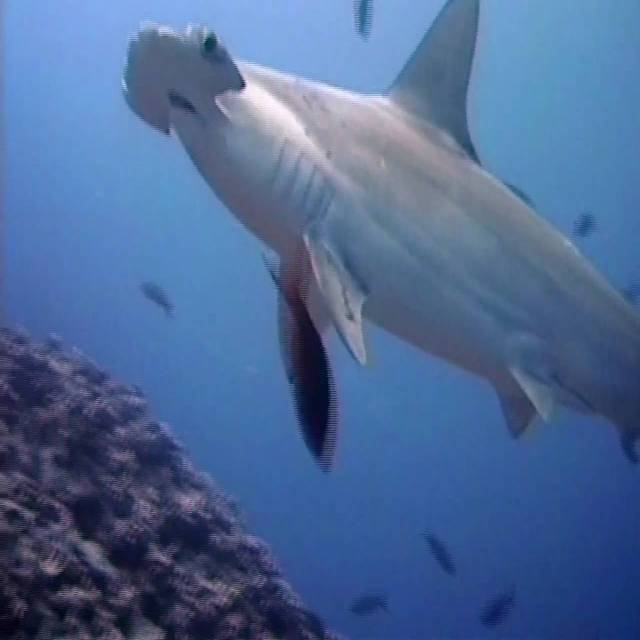hammerhead: (112, 15, 583, 326)
